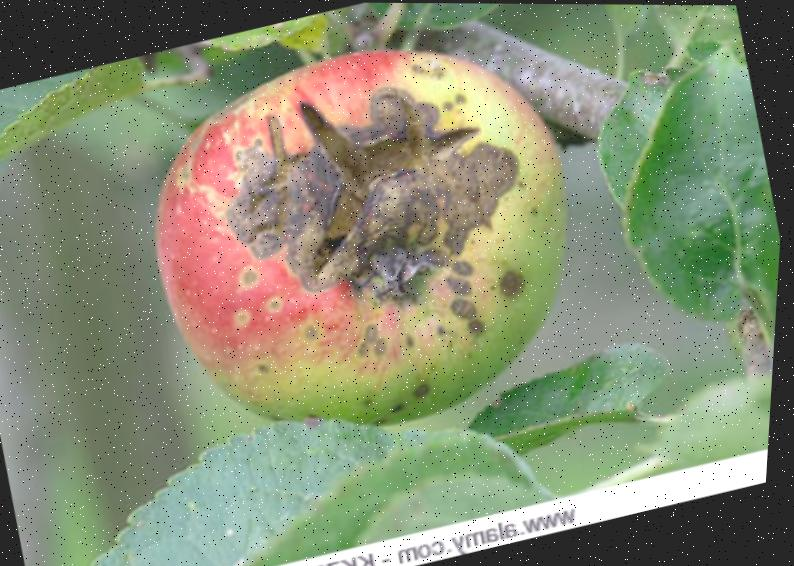SCAB: (17, 0, 664, 527)
